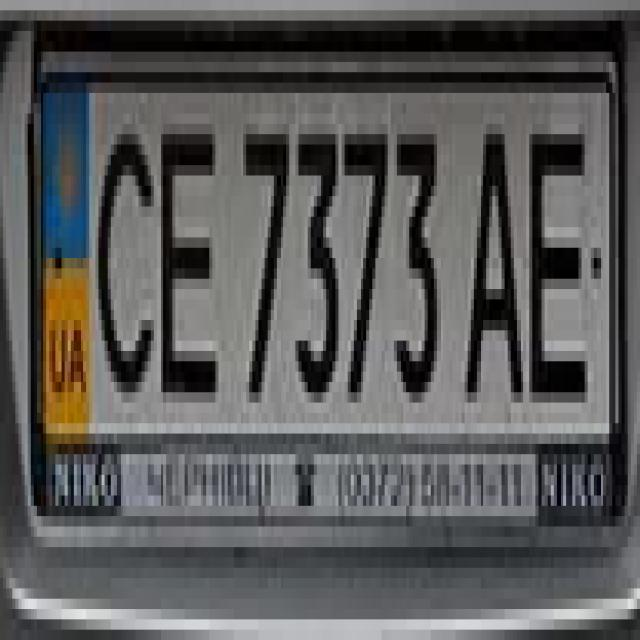Autre: (28, 47, 627, 530)
